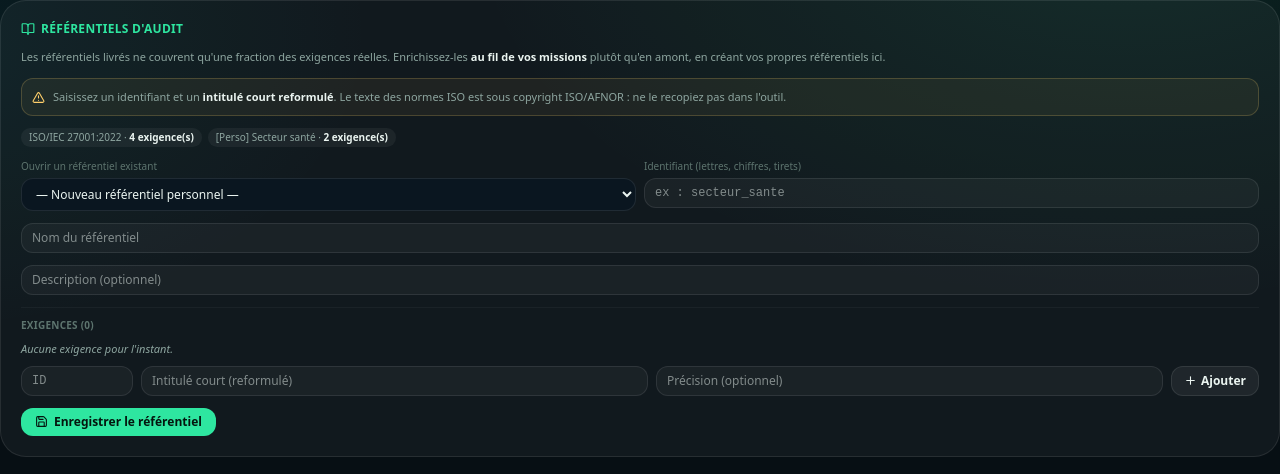
ReferentielsPanel › remonte le refus de collision de l'API
In the field named "Identifiant du référentiel": (952, 193) [644, 178, 1259, 208], type "iso27001"
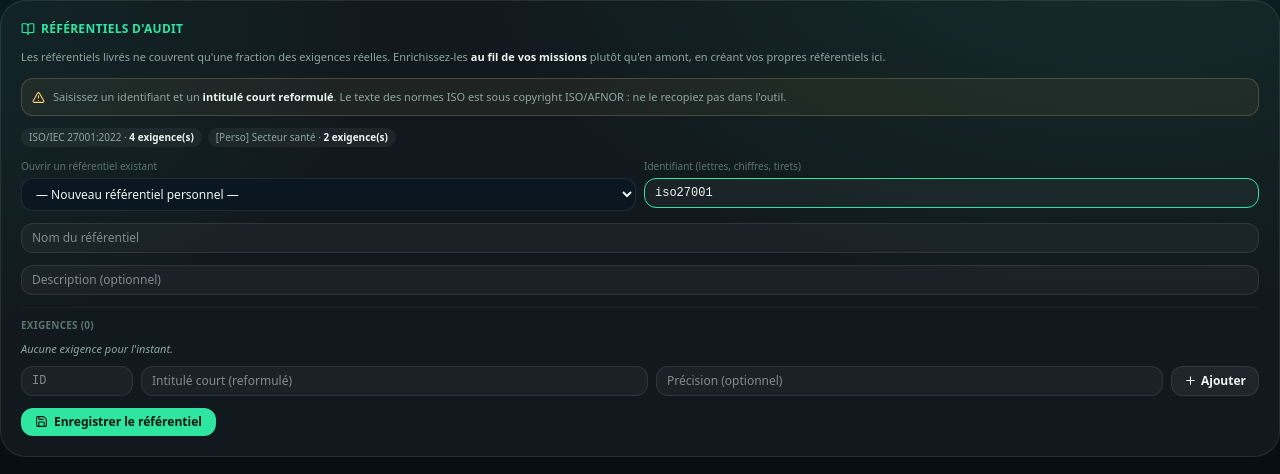
In the field labelled "Nom du référentiel": (640, 238) [21, 223, 1259, 253], type "Ma version"
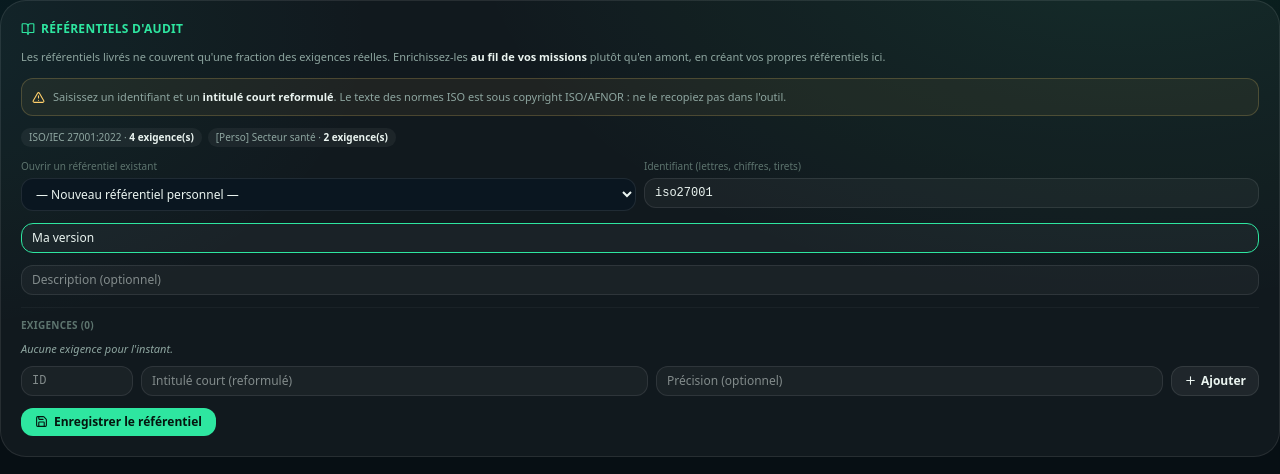
Click the button "Enregistrer le référentiel": (118, 422) [21, 408, 216, 436]
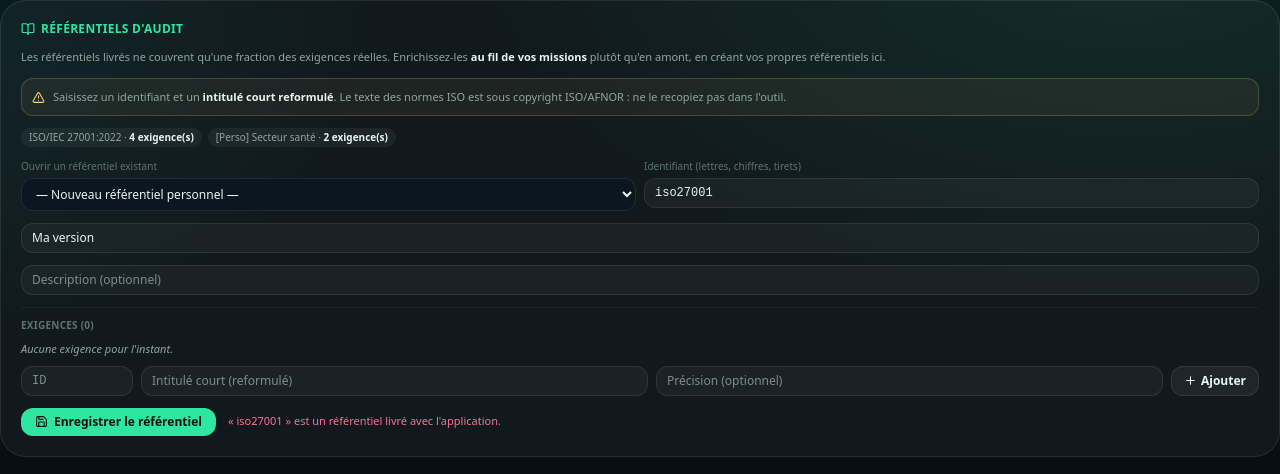
Check: the text "« iso27001 » est un référentiel livré avec l'application." is shown, box [228, 413, 501, 430]
